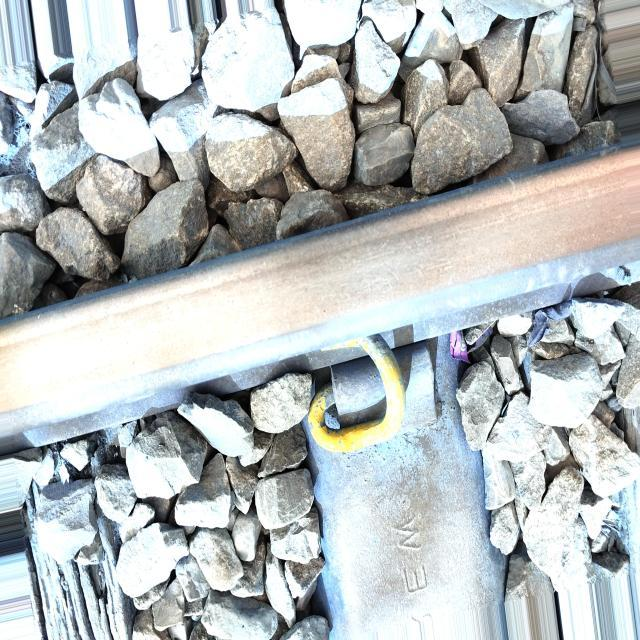Good Fasteners: (303, 334, 437, 452)
